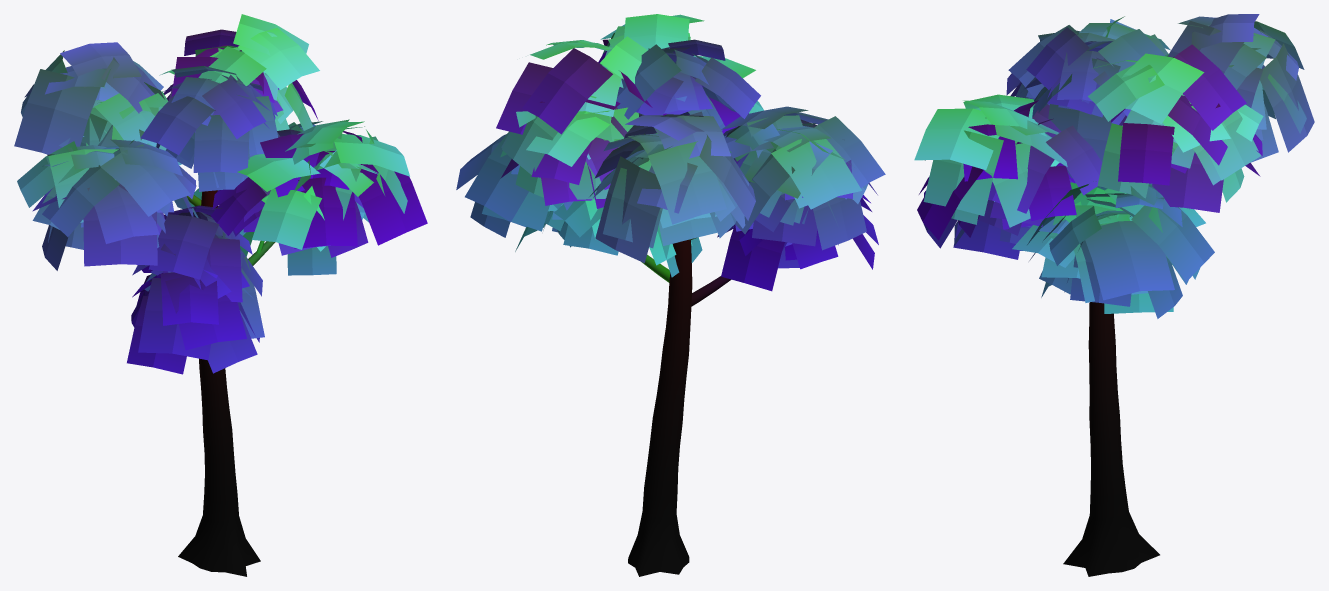
The model's file is Jungle1.fbx.
The picture shows the model from 3 angles, left to right: view 1: azimuth 30°, elevation 25°; view 2: azimuth 150°, elevation 25°; view 3: azimuth 270°, elevation 25°; orthographic projection. The views are drawn at different scales.
Visible parts, largest first — view 1: Jungle1; view 2: Jungle1; view 3: Jungle1.
Boxes of the visible parts, x1,y1,x2,y2 form: Jungle1: (14,14,427,576); Jungle1: (456,14,885,576); Jungle1: (914,14,1314,576).
Bounding box in the file's own units: 17.51 × 22.35 × 15.33.
